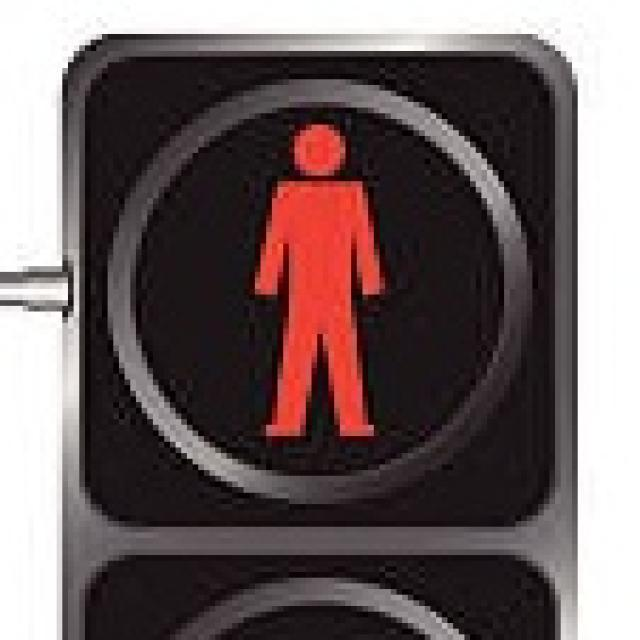red_light: (210, 96, 420, 453)
